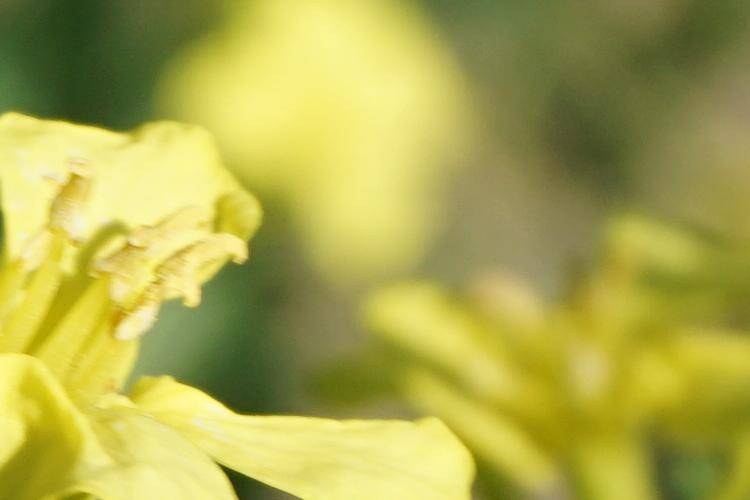yellow: (8, 113, 471, 500)
